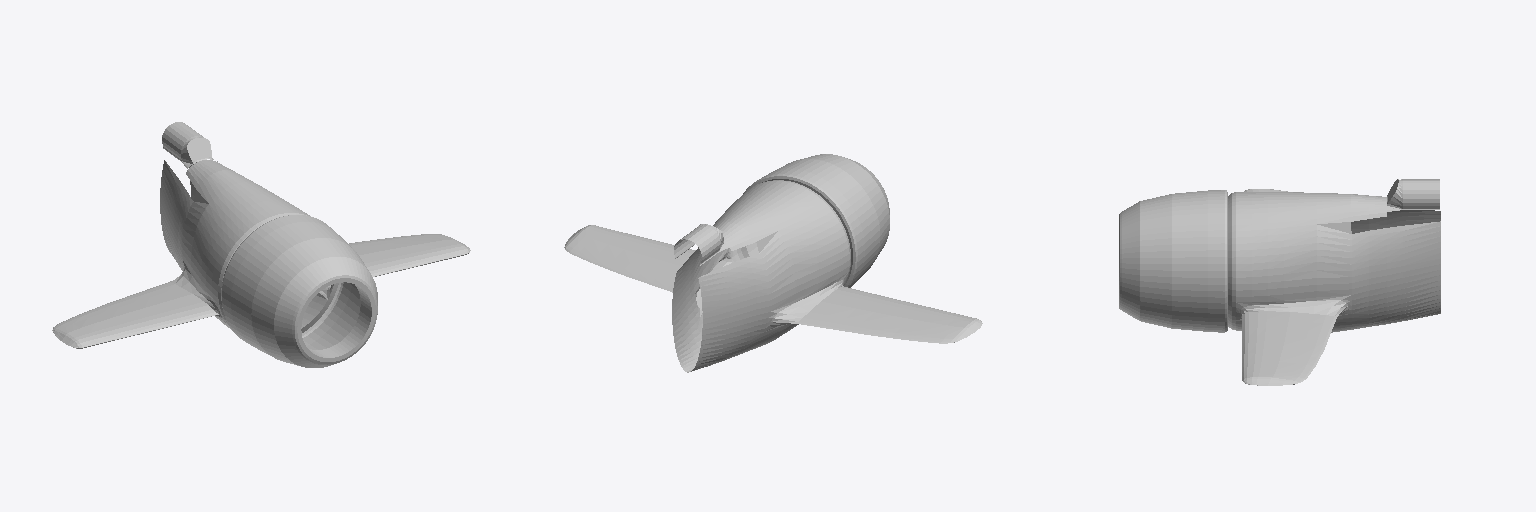
Rendered from geebee.obj.
3 views of the same model, side by side, from view 1: azimuth 30°, elevation 25°; view 2: azimuth 150°, elevation 25°; view 3: azimuth 270°, elevation 25° (orthographic).
Parts seen in each view (by area): view 1: Cylinder; view 2: Cylinder; view 3: Cylinder.
Boxes of the visible parts, <box> form: Cylinder: <box>52,122,470,367</box>; Cylinder: <box>564,154,982,372</box>; Cylinder: <box>1119,179,1440,385</box>.
Bounding box in the file's own units: 6.99 × 2.5 × 4.86.